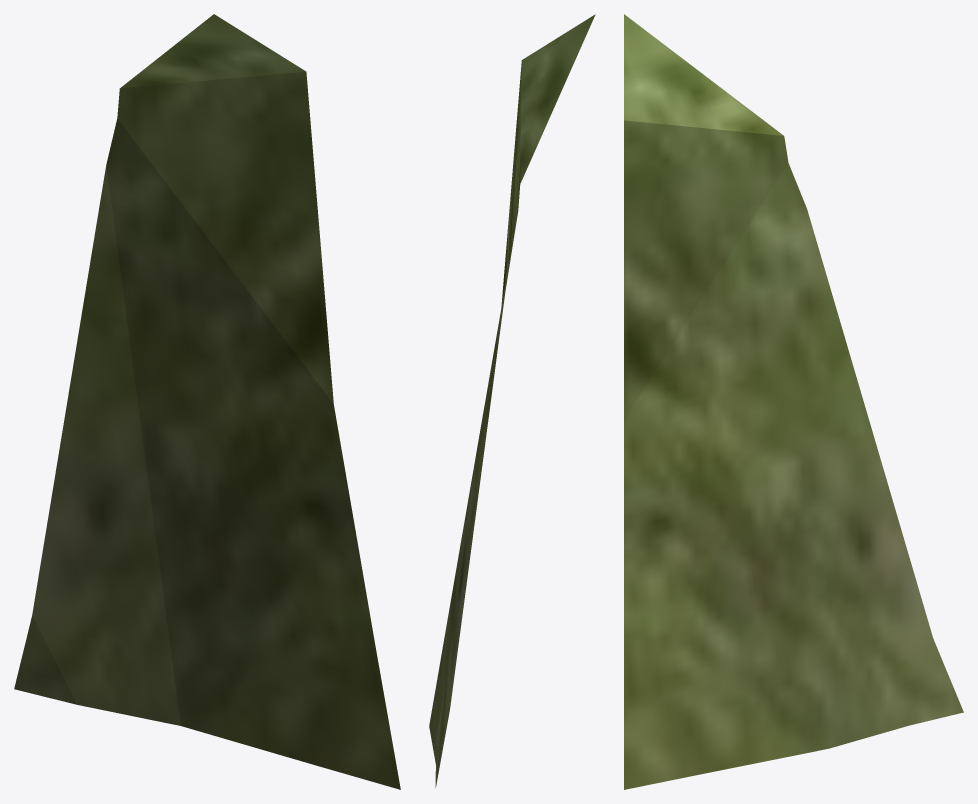
3 views of the same model, side by side, from view 1: azimuth 30°, elevation 25°; view 2: azimuth 150°, elevation 25°; view 3: azimuth 270°, elevation 25° (orthographic). The views are drawn at different scales.
Bounding box in the file's own units: 0.4057 × 1.7 × 0.752.
1 material, 1 textured.
